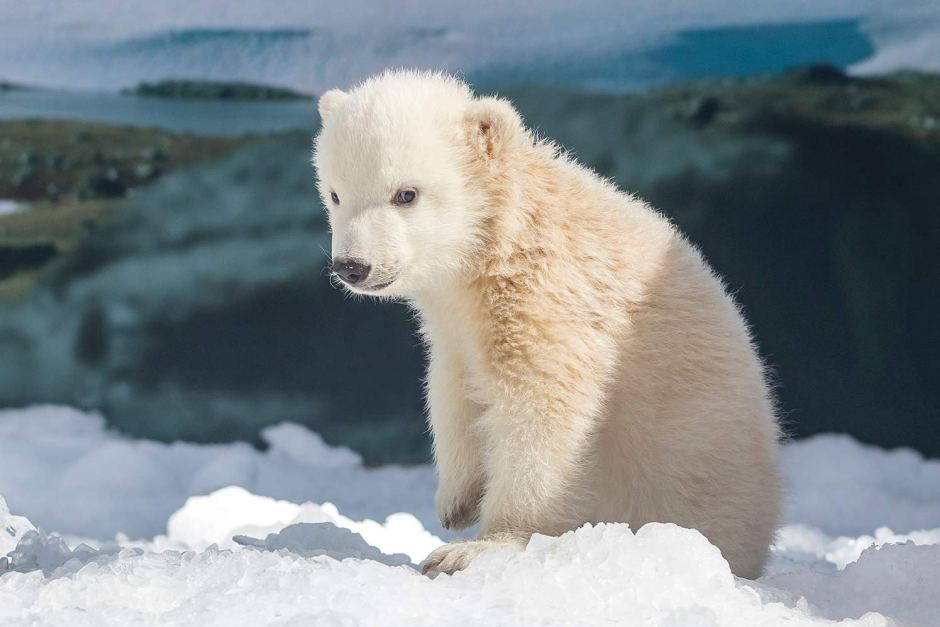Polar Bear: (311, 50, 832, 589)
